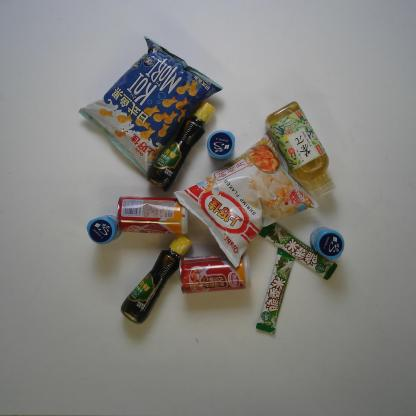Canned Food: (178, 250, 252, 295), (116, 194, 191, 236)
Chocolate: (258, 220, 338, 280), (255, 247, 295, 334)
Drink: (264, 101, 337, 200)
Gum: (309, 223, 345, 261), (85, 214, 124, 245), (206, 129, 236, 163)
Puffed Food: (79, 35, 225, 176), (173, 130, 320, 270)
Seasoner: (118, 232, 194, 326), (145, 100, 217, 193)
